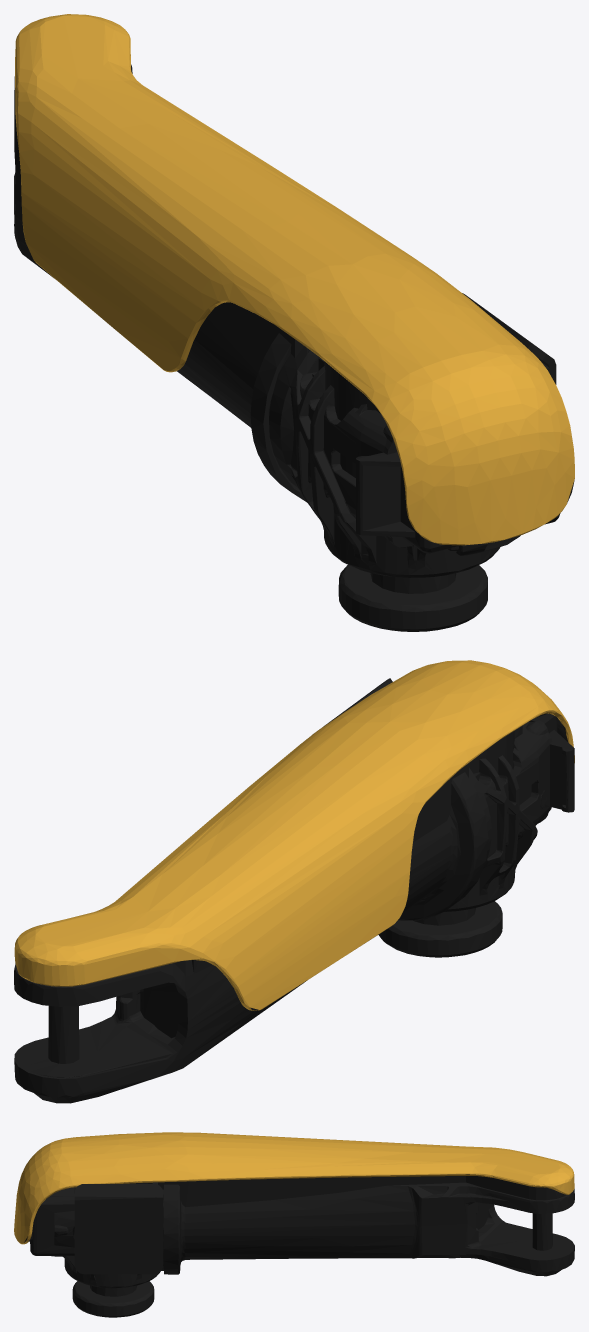
The model's file is front_left_upper_leg.obj.
3 renders of one model, top to bottom at view 1: azimuth 30°, elevation 25°; view 2: azimuth 150°, elevation 25°; view 3: azimuth 270°, elevation 25°, orthographic. The views are drawn at different scales.
Visible parts, largest first — view 1: _2-042137-001-A00_TOP_LEVEL_DEFEATURED_-_NOT_FOR_PRODUCTION_015; view 2: _2-042137-001-A00_TOP_LEVEL_DEFEATURED_-_NOT_FOR_PRODUCTION_015; view 3: _2-042137-001-A00_TOP_LEVEL_DEFEATURED_-_NOT_FOR_PRODUCTION_015.
Part boxes in pixels (<box>): _2-042137-001-A00_TOP_LEVEL_DEFEATURED_-_NOT_FOR_PRODUCTION_015: <box>14,14,574,631</box>; _2-042137-001-A00_TOP_LEVEL_DEFEATURED_-_NOT_FOR_PRODUCTION_015: <box>14,660,574,1103</box>; _2-042137-001-A00_TOP_LEVEL_DEFEATURED_-_NOT_FOR_PRODUCTION_015: <box>14,1132,574,1317</box>.
Size of the model in its own units: 0.1013 by 0.1323 by 0.4185.
